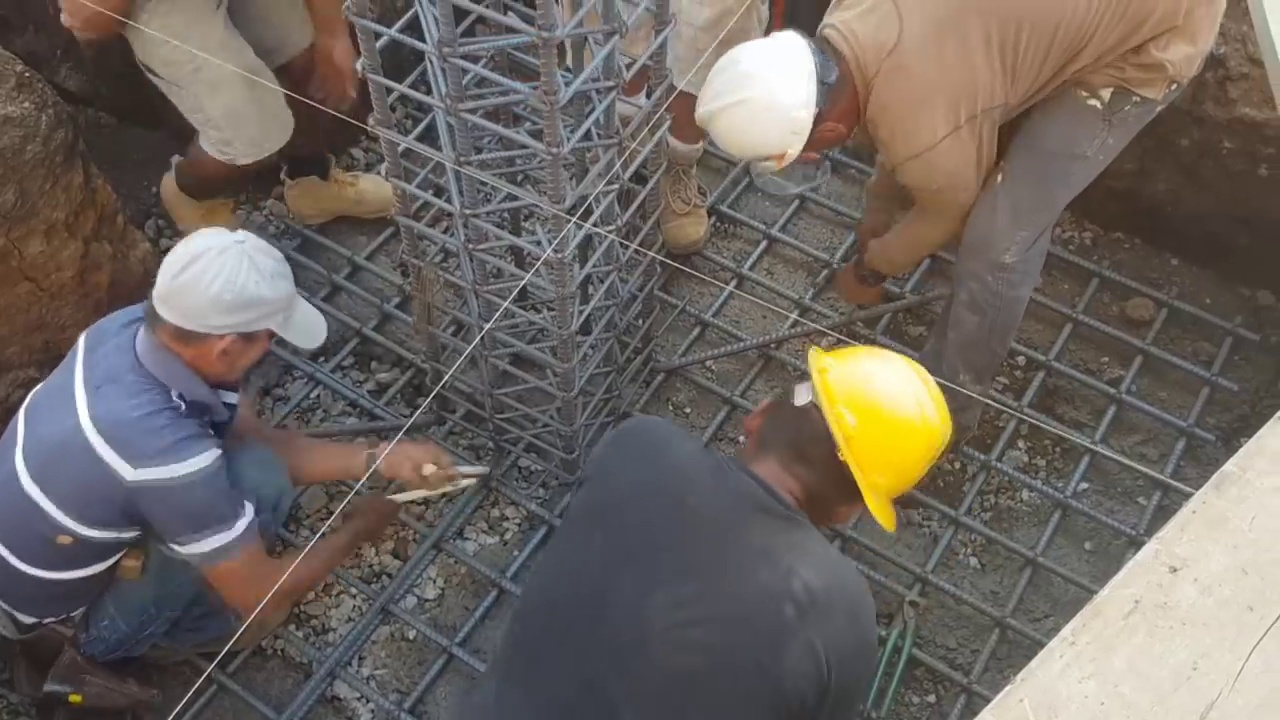helmet: (812, 340, 957, 545), (698, 27, 832, 167)
helmet-off: (134, 219, 313, 397)
helmet-on: (737, 353, 955, 544), (698, 14, 859, 184)
person: (693, 0, 1245, 437), (14, 221, 469, 702), (479, 342, 960, 720), (57, 5, 402, 257), (559, 4, 710, 258)
